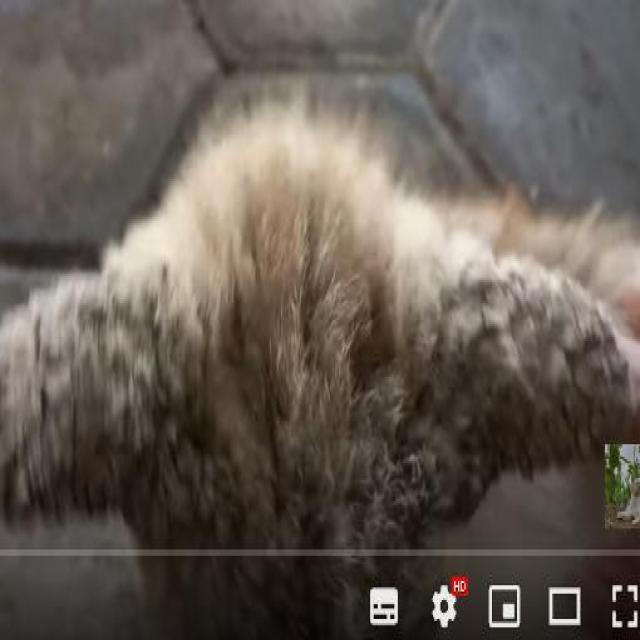ghe: (399, 242, 630, 433)
